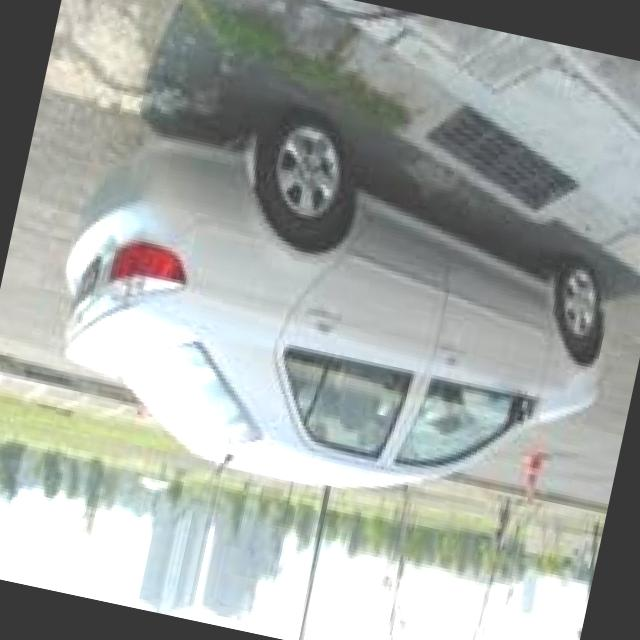ToyotaVios: (28, 69, 640, 546)
